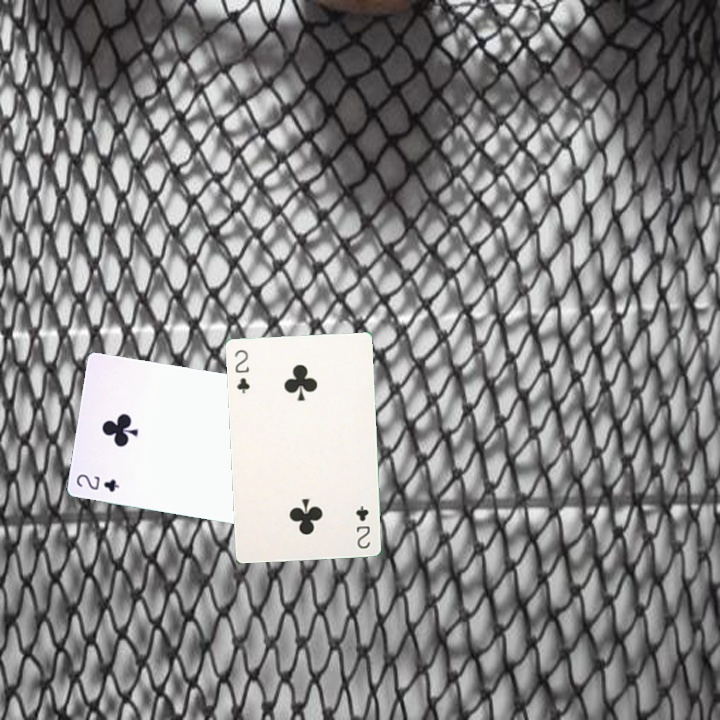2c: (72, 470, 122, 495), (231, 346, 252, 396), (352, 502, 373, 551)
